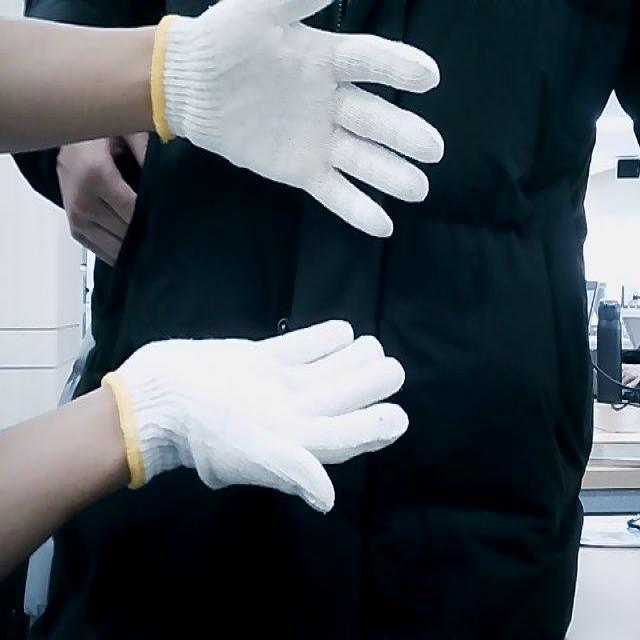gloves: (150, 0, 446, 247), (102, 318, 410, 515)
